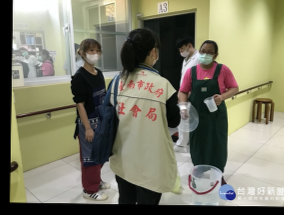mask_weared_incorrect: (177, 45, 191, 58)
with_mask: (82, 46, 101, 65), (198, 46, 215, 65), (147, 43, 159, 67), (11, 53, 22, 62), (37, 53, 45, 63), (20, 49, 29, 57)
